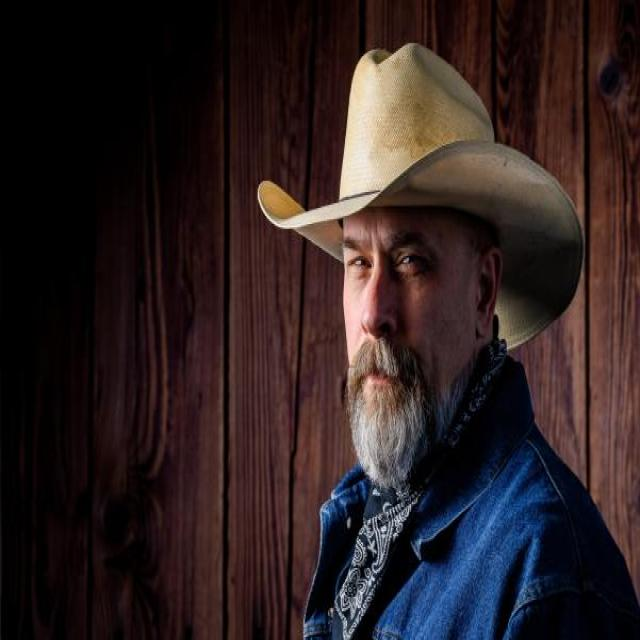hat: (256, 35, 586, 440)
